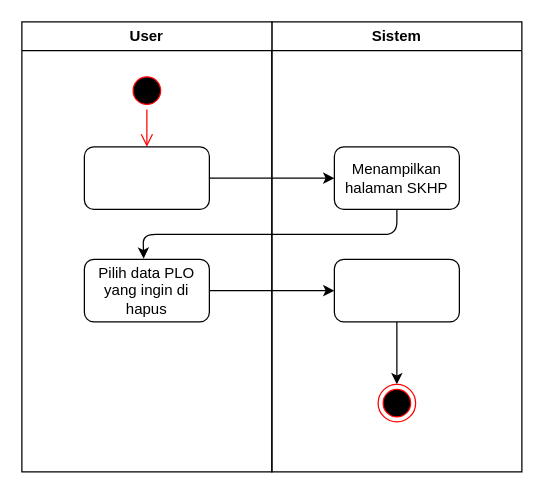
Image size: 544x494. Some labels were removed from this diagram. Here are the shapes that lost their labels. From the top down, the centre of each, then its label:
At point (146, 177): "Membuka halaman SKHP".
At point (396, 290): "Perubahan data tersimpan".
